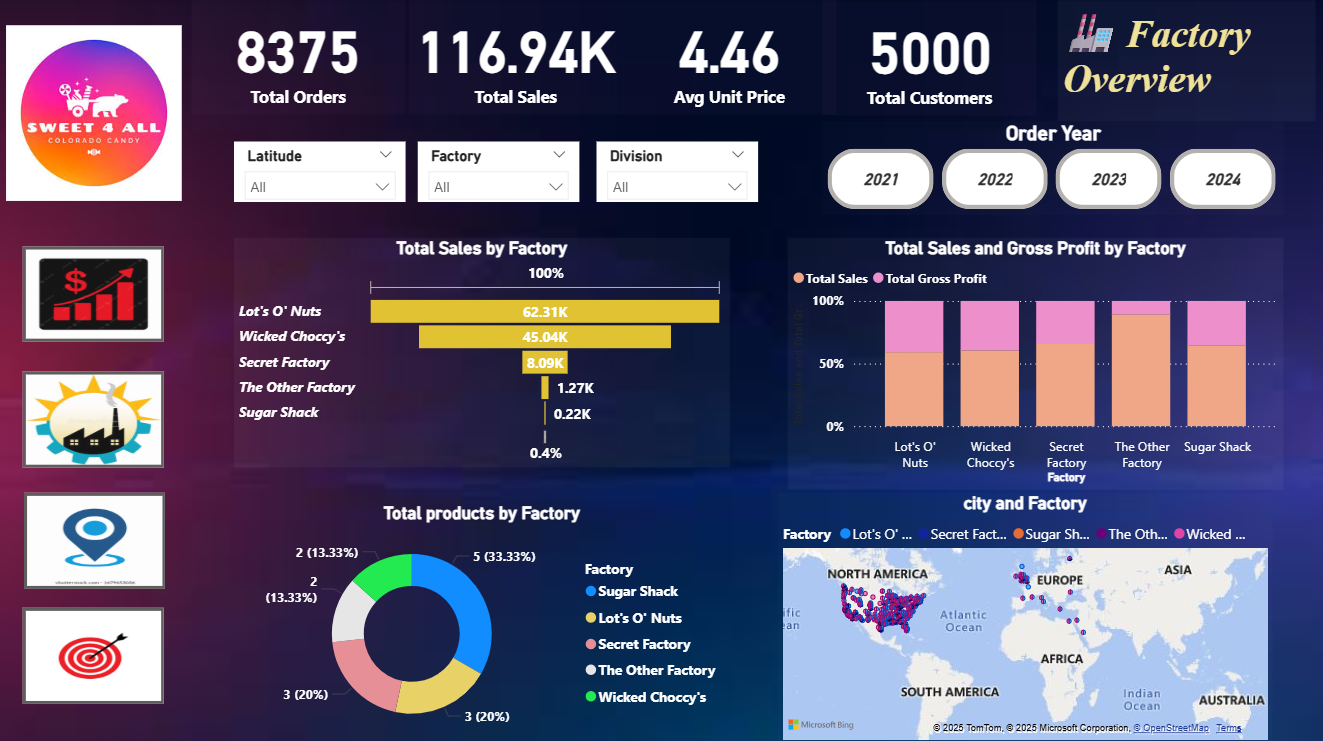

What the dashboard file says about the page in this screenshot:
{"tool":"powerbi","page":{"name":"Factory","canvas":[1280,720],"ordinal":2},"visuals":[{"type":"image","box":[1.2,20.5,181,179.8],"z":0},{"type":"actionButton","box":[22.9,238.9,136.3,91.7],"z":1000},{"type":"actionButton","box":[22.9,359.5,136.3,92.9],"z":2000},{"type":"actionButton","box":[24.1,476.5,136.3,92.9],"z":3000},{"type":"actionButton","box":[22.9,587.5,136.3,92.9],"z":4000},{"type":"slicer","fields":{"Values":["Candy_Factories.Latitude"]},"box":[227.1,137.1,165.7,58.6],"z":5000},{"type":"slicer","fields":{"Values":["Candy_Products.Factory"]},"box":[404.3,137.1,155.7,58.6],"z":6000},{"type":"slicer","fields":{"Values":["Candy_Products.Division"]},"box":[577.1,137.1,155.7,58.6],"z":7000},{"type":"advancedSlicerVisual","fields":{"Values":["Candy_Sales.Year"]},"box":[795,118.2,445.2,90.5],"z":8000},{"type":"funnel","fields":{"Category":["Candy_Products.Factory"],"Y":["Candy_Sales.Total Sales"]},"box":[227.1,230,478.6,221.4],"z":9000},{"type":"hundredPercentStackedColumnChart","title":"Total Sales and Gross Profit by Factory","fields":{"Y":["Candy_Sales.Total Sales","Candy_Sales.Total Gross Profit"],"Category":["Candy_Sales.Factory"]},"box":[761.4,230,478.6,242.9],"z":10000},{"type":"map","fields":{"Category":["uszips.city"],"Series":["Candy_Factories.Factory"]},"box":[751.6,476.5,477.8,243.7],"z":11000},{"type":"donutChart","fields":{"Category":["Candy_Products.Factory"],"Y":["Candy_Products.Total products"]},"box":[227.1,485.7,478.6,234.3],"z":12000},{"type":"card","fields":{"Values":["Candy_Sales.Total Sales"]},"box":[395.3,0,206.3,111.1],"z":13000},{"type":"card","fields":{"Values":["Candy_Products.Total Unit Price"]},"box":[601.6,0,206.3,111.1],"z":14000},{"type":"card","fields":{"Values":["Candy_Sales.Total Customers"]},"box":[795,1.4,206.3,111.1],"z":15000},{"type":"textbox","box":[1021.9,1.2,248.5,117],"z":16000},{"type":"card","fields":{"Values":["Candy_Sales.Total Orders"]},"box":[186.1,0,206.3,111.1],"z":17000}]}

Visuals, with their boxes in screenshot pixels (x1, y1, x2, y2), scaled from the page's 1280x720 canvas onto the 1323x741 screenshot:
image: {"x1": 1, "y1": 21, "x2": 188, "y2": 206}
actionButton: {"x1": 24, "y1": 246, "x2": 165, "y2": 340}
actionButton: {"x1": 24, "y1": 370, "x2": 165, "y2": 466}
actionButton: {"x1": 25, "y1": 490, "x2": 166, "y2": 586}
actionButton: {"x1": 24, "y1": 605, "x2": 165, "y2": 700}
slicer - Candy_Factories.Latitude: {"x1": 235, "y1": 141, "x2": 406, "y2": 201}
slicer - Candy_Products.Factory: {"x1": 418, "y1": 141, "x2": 579, "y2": 201}
slicer - Candy_Products.Division: {"x1": 596, "y1": 141, "x2": 757, "y2": 201}
advancedSlicerVisual - Candy_Sales.Year: {"x1": 822, "y1": 122, "x2": 1282, "y2": 215}
funnel - Candy_Products.Factory x Candy_Sales.Total Sales: {"x1": 235, "y1": 237, "x2": 729, "y2": 465}
"Total Sales and Gross Profit by Factory" hundredPercentStackedColumnChart: {"x1": 787, "y1": 237, "x2": 1282, "y2": 487}
map - uszips.city x Candy_Factories.Factory: {"x1": 777, "y1": 490, "x2": 1271, "y2": 740}
donutChart - Candy_Products.Factory x Candy_Products.Total products: {"x1": 235, "y1": 500, "x2": 729, "y2": 740}
card - Candy_Sales.Total Sales: {"x1": 409, "y1": 0, "x2": 622, "y2": 114}
card - Candy_Products.Total Unit Price: {"x1": 622, "y1": 0, "x2": 835, "y2": 114}
card - Candy_Sales.Total Customers: {"x1": 822, "y1": 1, "x2": 1035, "y2": 116}
textbox: {"x1": 1056, "y1": 1, "x2": 1313, "y2": 122}
card - Candy_Sales.Total Orders: {"x1": 192, "y1": 0, "x2": 406, "y2": 114}
